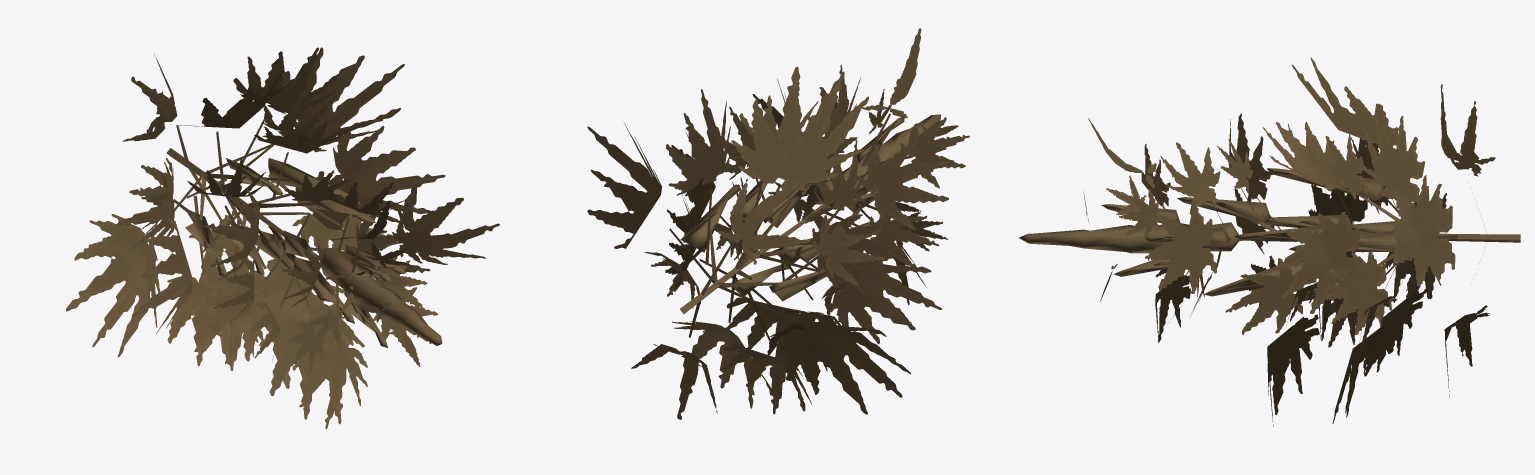
Rendered from p_haze_ripe_c3_cards.obj.
The picture shows the model from 3 angles, left to right: view 1: azimuth 30°, elevation 25°; view 2: azimuth 150°, elevation 25°; view 3: azimuth 270°, elevation 25°; orthographic projection. The views are drawn at different scales.
Size of the model in its own units: 1.85 by 1.78 by 2.03.
1 material, 1 textured.
